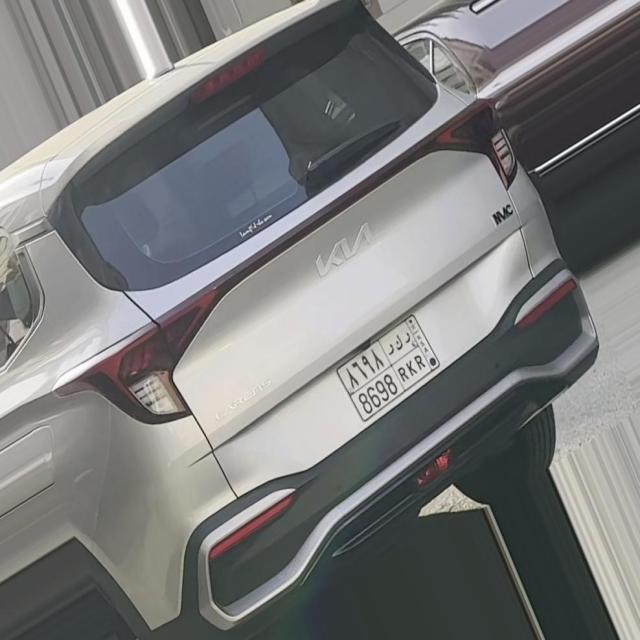Car-plate: (324, 296, 457, 434)
